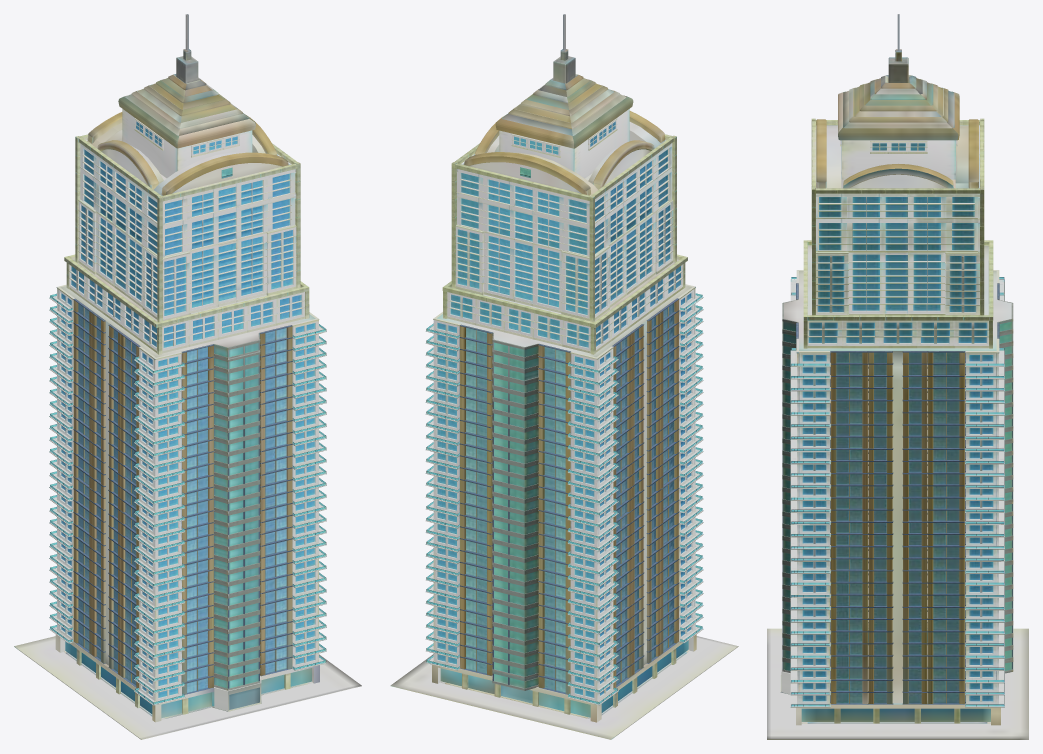
Rendered from Building_Tokyo.glb.
The picture shows the model from 3 angles, left to right: view 1: azimuth 30°, elevation 25°; view 2: azimuth 150°, elevation 25°; view 3: azimuth 270°, elevation 25°; orthographic projection. The views are drawn at different scales.
Parts seen in each view (by area): view 1: Building_0_Optimized; view 2: Building_0_Optimized; view 3: Building_0_Optimized.
Part boxes in pixels (box(x1,y1,x2,y2)): Building_0_Optimized: box(14, 14, 361, 739); Building_0_Optimized: box(390, 14, 738, 739); Building_0_Optimized: box(767, 14, 1028, 739).
Size of the model in its own units: 130 by 367 by 130.
Materials: 1 (1 with a texture image).
